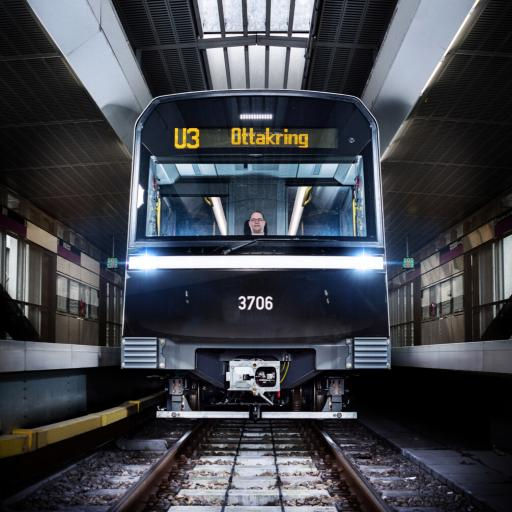X-Wagen: (121, 88, 394, 397)
